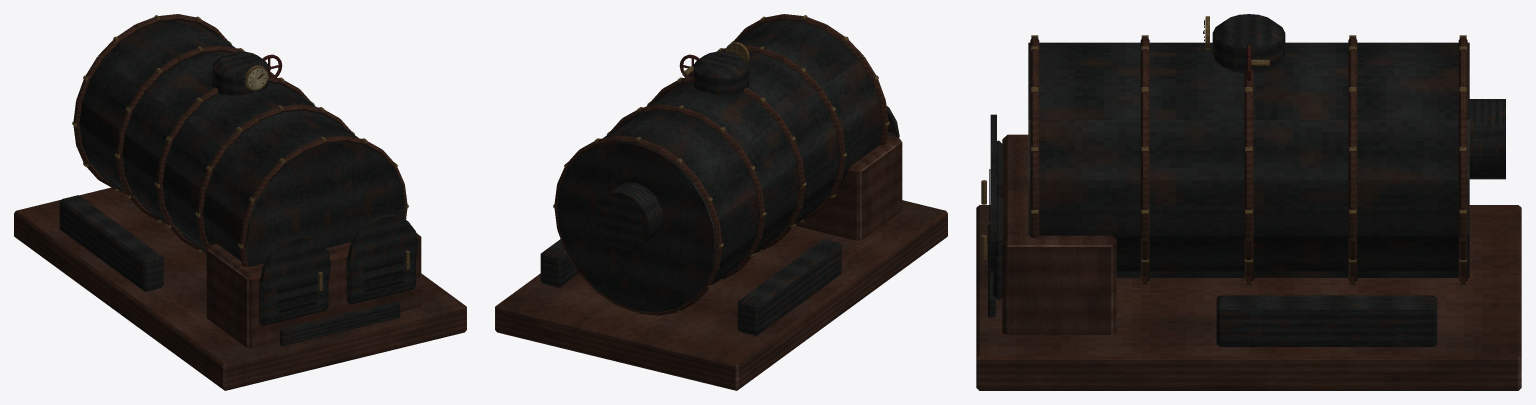
File: level_boiler_coal_worn.glb
3 renders of one model, left to right at view 1: azimuth 30°, elevation 25°; view 2: azimuth 150°, elevation 25°; view 3: azimuth 270°, elevation 25°, orthographic. The views are drawn at different scales.
Parts seen in each view (by area): view 1: level_boiler_coal_worn; view 2: level_boiler_coal_worn; view 3: level_boiler_coal_worn.
Boxes of the visible parts, left/top/right/bottom form: level_boiler_coal_worn: left=14, top=14, right=466, bottom=390; level_boiler_coal_worn: left=495, top=14, right=947, bottom=390; level_boiler_coal_worn: left=976, top=14, right=1521, bottom=390.
Bounding box in the file's own units: 2.8 × 2.53 × 4.2.
Materials: 6 (6 with a texture image).
